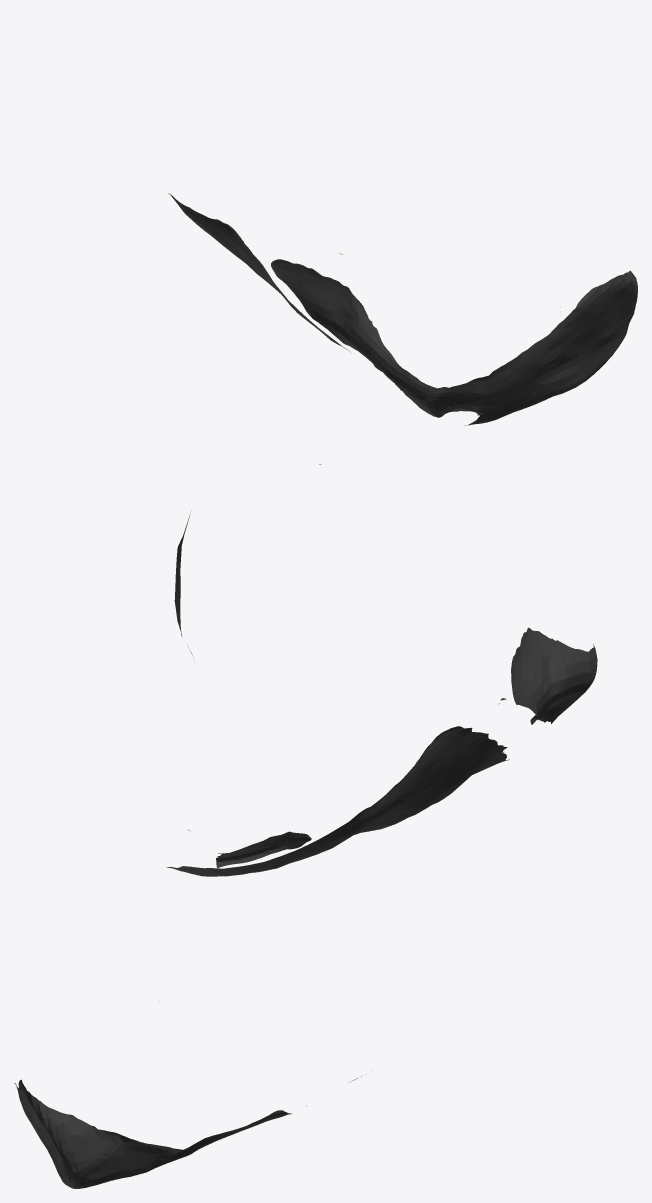
The model's file is musc_biceps_brachii.glb.
3 renders of one model, top to bottom at view 1: azimuth 30°, elevation 25°; view 2: azimuth 150°, elevation 25°; view 3: azimuth 270°, elevation 25°, orthographic. The views are drawn at different scales.
Parts seen in each view (by area): view 1: musc_biceps_brachii; view 2: musc_biceps_brachii; view 3: musc_biceps_brachii.
Part boxes in pixels (x1,y1,x2,y2): musc_biceps_brachii: (168,193,637,425); musc_biceps_brachii: (167,464,597,876); musc_biceps_brachii: (14,1001,365,1188).
Bounding box in the file's own units: 0.1481 × 0.0892 × 0.3226.
Materials: 1 (1 with a texture image).
